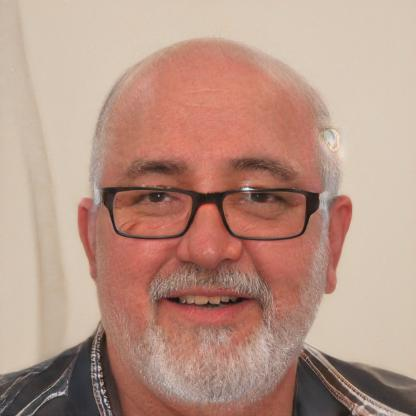glasses: (101, 180, 319, 244)
